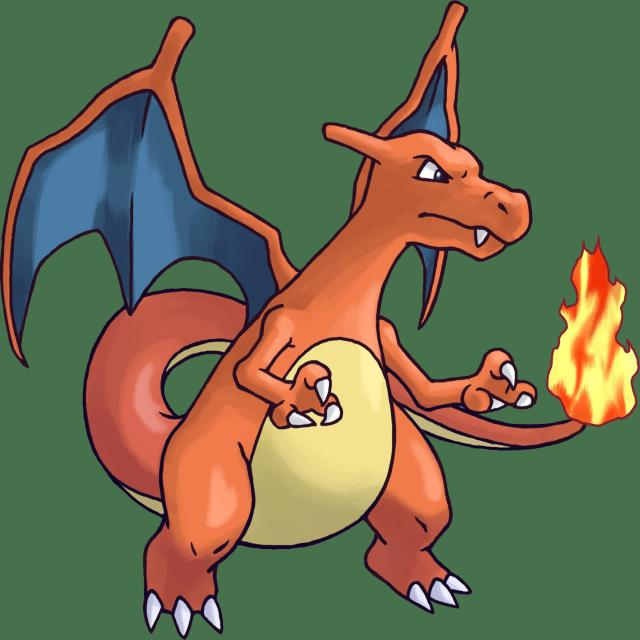Charizard: (113, 12, 538, 619)
